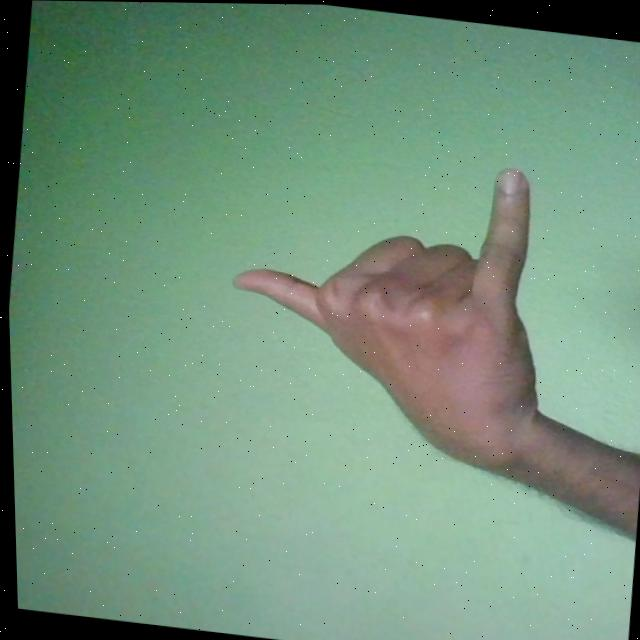Call Me: (210, 134, 563, 472)
